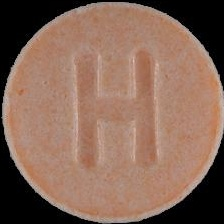16729-182: (0, 0, 224, 224)
